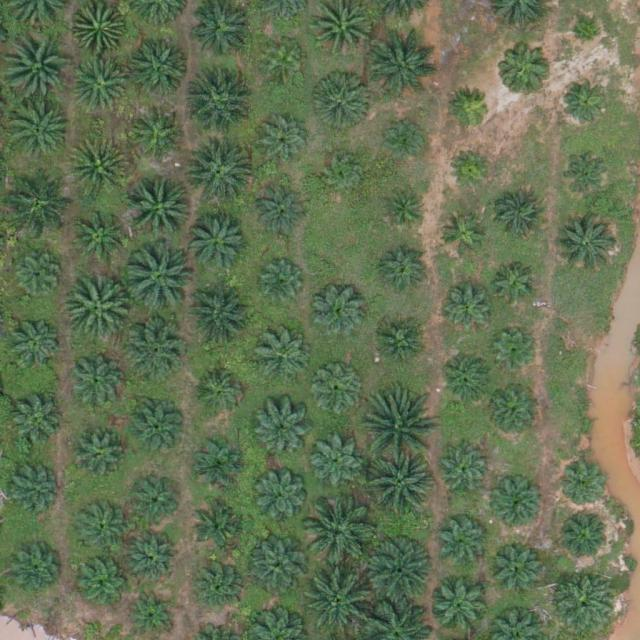Healthy: (361, 535, 432, 606), (181, 285, 252, 356), (124, 246, 195, 317), (6, 166, 77, 237), (365, 395, 436, 465), (128, 175, 198, 246), (182, 67, 252, 138), (364, 453, 434, 523), (306, 569, 376, 639), (304, 499, 374, 569), (62, 274, 132, 344), (6, 97, 76, 167), (2, 28, 72, 98), (182, 139, 252, 209), (371, 30, 441, 100), (122, 319, 185, 382), (67, 137, 130, 200), (129, 39, 192, 102), (555, 214, 617, 277), (432, 576, 495, 638), (554, 569, 616, 632), (247, 541, 309, 604), (187, 215, 249, 278), (312, 70, 374, 133), (561, 147, 616, 203), (377, 245, 432, 300), (369, 318, 424, 373), (441, 280, 496, 335), (484, 384, 539, 439), (435, 444, 490, 499), (436, 516, 491, 571), (488, 539, 543, 594), (254, 407, 309, 462), (254, 470, 309, 525), (13, 248, 68, 303), (6, 315, 61, 370), (9, 395, 64, 450), (4, 459, 59, 514), (8, 543, 63, 598), (77, 554, 132, 609), (68, 426, 123, 481), (69, 353, 124, 408), (129, 398, 184, 453), (128, 529, 183, 584), (193, 364, 248, 419), (311, 365, 366, 420), (74, 56, 129, 111), (72, 213, 127, 268), (133, 103, 188, 158), (254, 186, 309, 241), (258, 112, 313, 167), (559, 74, 614, 129), (498, 39, 553, 94), (494, 188, 549, 243), (440, 352, 494, 407), (491, 480, 545, 535), (558, 509, 612, 564), (75, 501, 129, 556), (128, 476, 182, 531), (190, 556, 244, 611), (195, 496, 249, 551), (190, 435, 244, 490), (312, 284, 366, 339), (310, 436, 364, 491), (256, 330, 310, 385)
Small: (259, 261, 306, 309), (129, 589, 176, 637), (448, 87, 495, 134), (261, 37, 308, 84), (382, 118, 429, 165), (439, 212, 486, 259), (322, 152, 369, 199), (494, 264, 541, 311), (492, 330, 539, 377), (560, 463, 607, 510), (448, 147, 495, 194), (381, 188, 428, 235), (571, 21, 602, 52)
